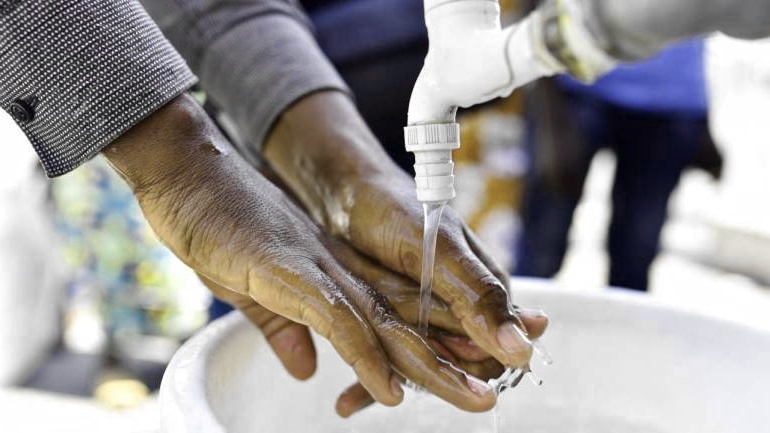washing hand: (110, 16, 591, 422)
